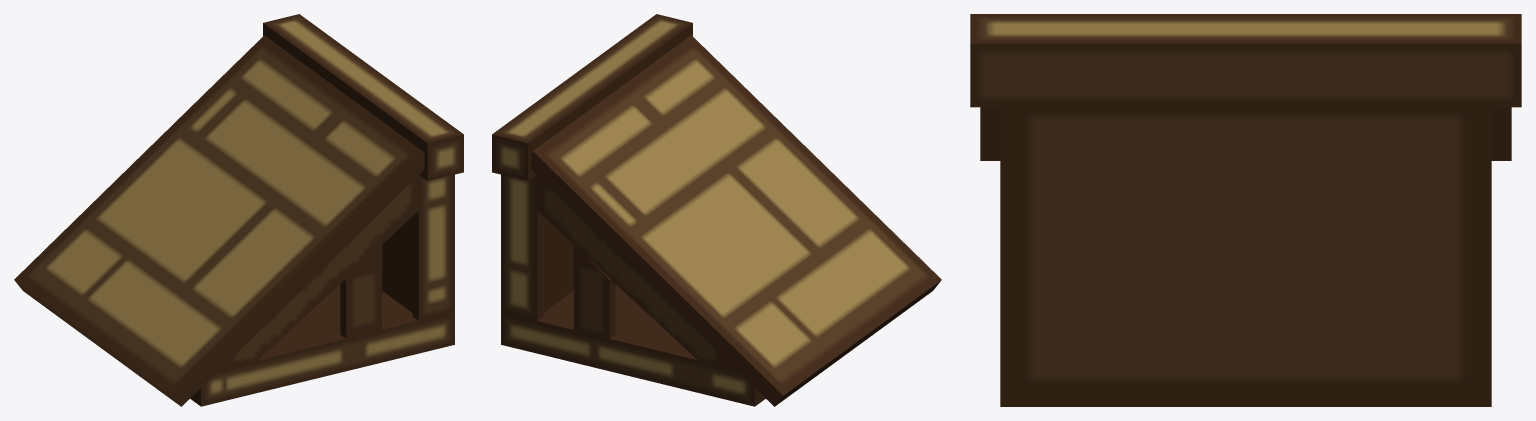
File: Roof_Model.fbx
3 views of the same model, side by side, from view 1: azimuth 30°, elevation 25°; view 2: azimuth 150°, elevation 25°; view 3: azimuth 270°, elevation 25° (orthographic). The views are drawn at different scales.
Visible parts, largest first — view 1: Roof; view 2: Roof; view 3: Roof.
Boxes of the visible parts, x1,y1,x2,y2 form: Roof: (14,14,463,406); Roof: (492,14,941,406); Roof: (970,14,1521,406).
Bounding box in the file's own units: 464 × 333 × 458.
1 material, 1 textured.
